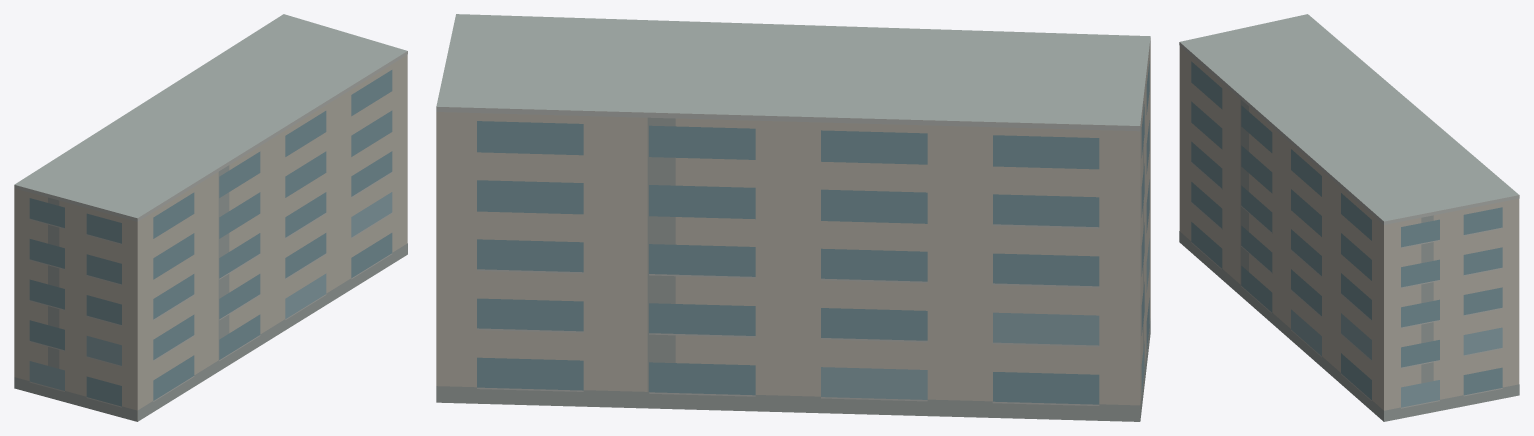
File: survey-upis-32702137.glb
3 renders of one model, left to right at view 1: azimuth 30°, elevation 25°; view 2: azimuth 150°, elevation 25°; view 3: azimuth 270°, elevation 25°, orthographic. The views are drawn at different scales.
Visible parts, largest first — view 1: survey-upis-32702137.tmp; view 2: survey-upis-32702137.tmp; view 3: survey-upis-32702137.tmp.
Boxes of the visible parts, box(x1,y1,x2,y2) form: survey-upis-32702137.tmp: box(14, 14, 407, 421); survey-upis-32702137.tmp: box(436, 14, 1150, 421); survey-upis-32702137.tmp: box(1179, 14, 1519, 421).
Size of the model in its own units: 31.11 by 14 by 21.54.
